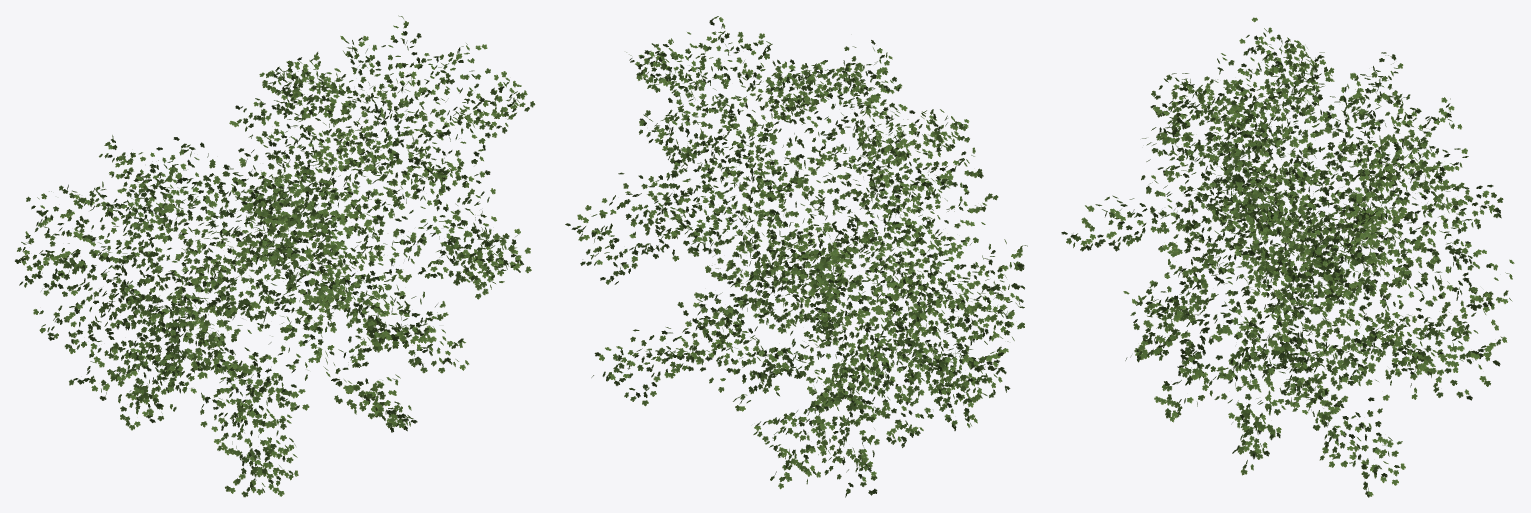
Rendered from MESH_EU01_AcerCampestre_A_LOD2.fbx.
3 renders of one model, left to right at view 1: azimuth 30°, elevation 25°; view 2: azimuth 150°, elevation 25°; view 3: azimuth 270°, elevation 25°, orthographic. The views are drawn at different scales.
Parts seen in each view (by area): view 1: MI_LOD2_001; view 2: MI_LOD2_001; view 3: MI_LOD2_001.
Part boxes in pixels (x1,y1,x2,y2): MI_LOD2_001: (15, 15, 535, 497); MI_LOD2_001: (565, 16, 1027, 497); MI_LOD2_001: (1061, 17, 1514, 497).
Size of what is drawn, in the model's own units: 1169 by 981 by 967.
